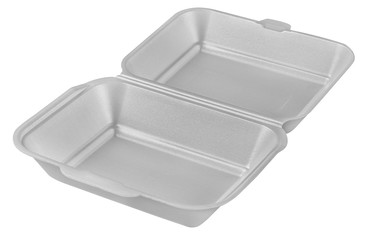styrofoam: (12, 8, 357, 230)
